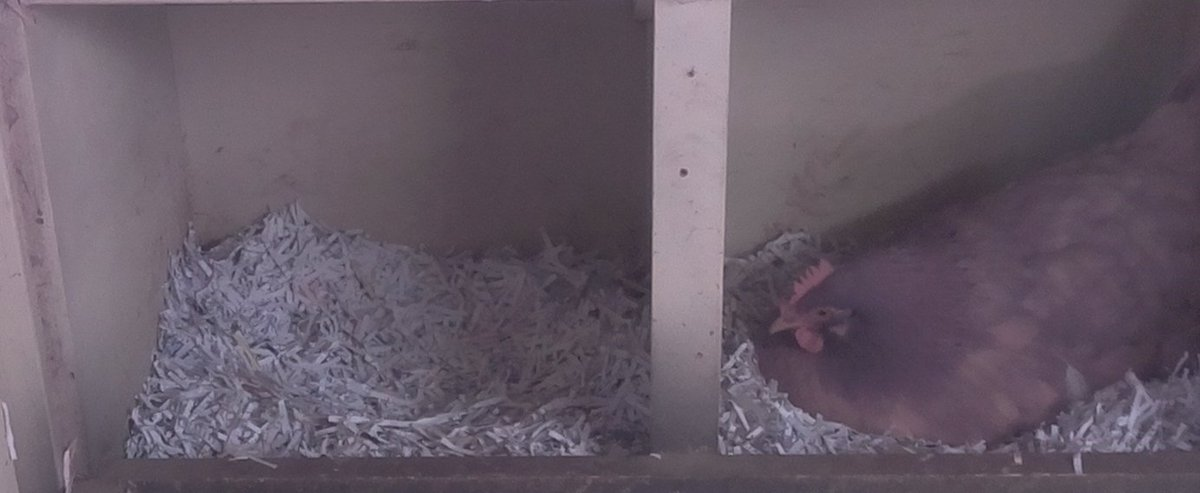hen: (753, 98, 1194, 443)
